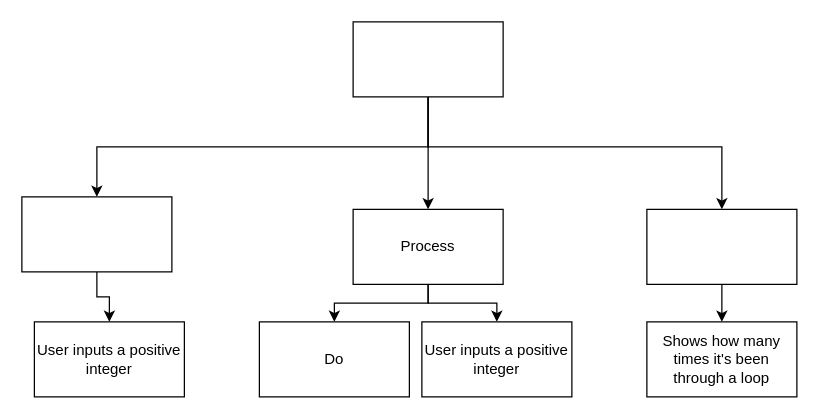
The diagram is 819 pixels wide and 419 high, and some of its shapes have lost their labels. Each missing label, with the centre of its shape:
"Do While Loop" belongs at pixel 427 59.
"Input" belongs at pixel 96 234.
"Output" belongs at pixel 721 246.
